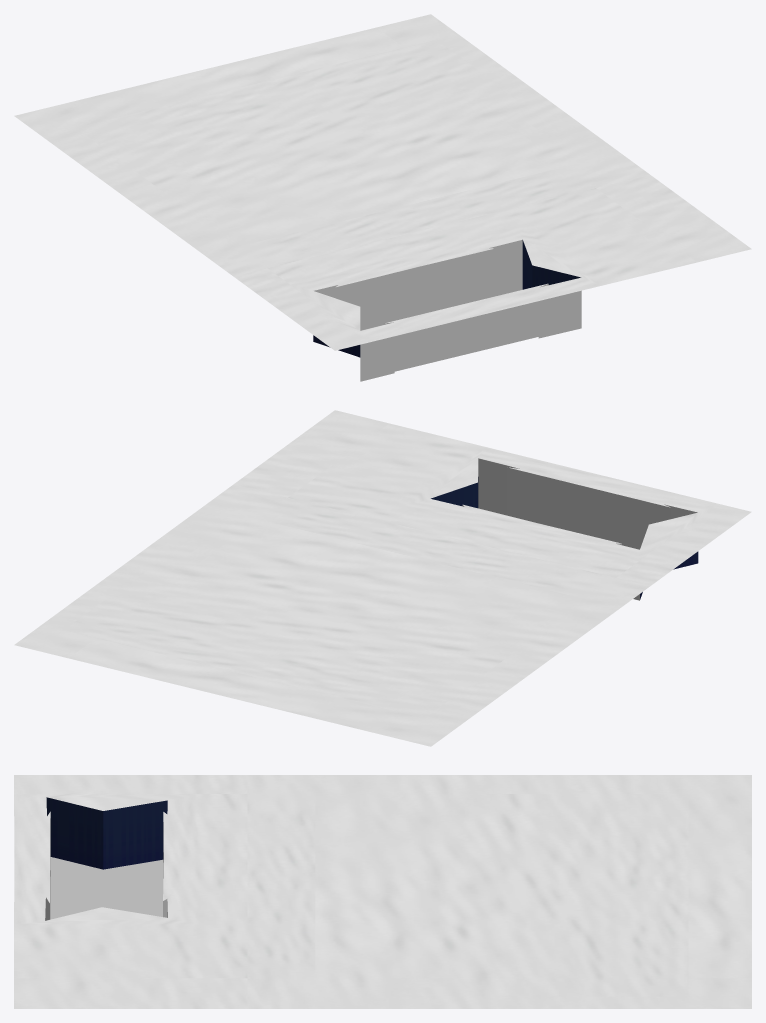
Rendered from trapS02.FBX.
3 views of the same model, one above another, from view 1: azimuth 30°, elevation 25°; view 2: azimuth 150°, elevation 25°; view 3: azimuth 270°, elevation 25° (orthographic). The views are drawn at different scales.
Visible parts, largest first — view 1: Object047; view 2: Object047; view 3: Object047.
Part boxes in pixels (bbox=[...]): Object047: bbox=[14, 14, 751, 381]; Object047: bbox=[14, 410, 751, 746]; Object047: bbox=[14, 775, 751, 1008].
Size of the model in its own units: 600 by 70 by 800.
